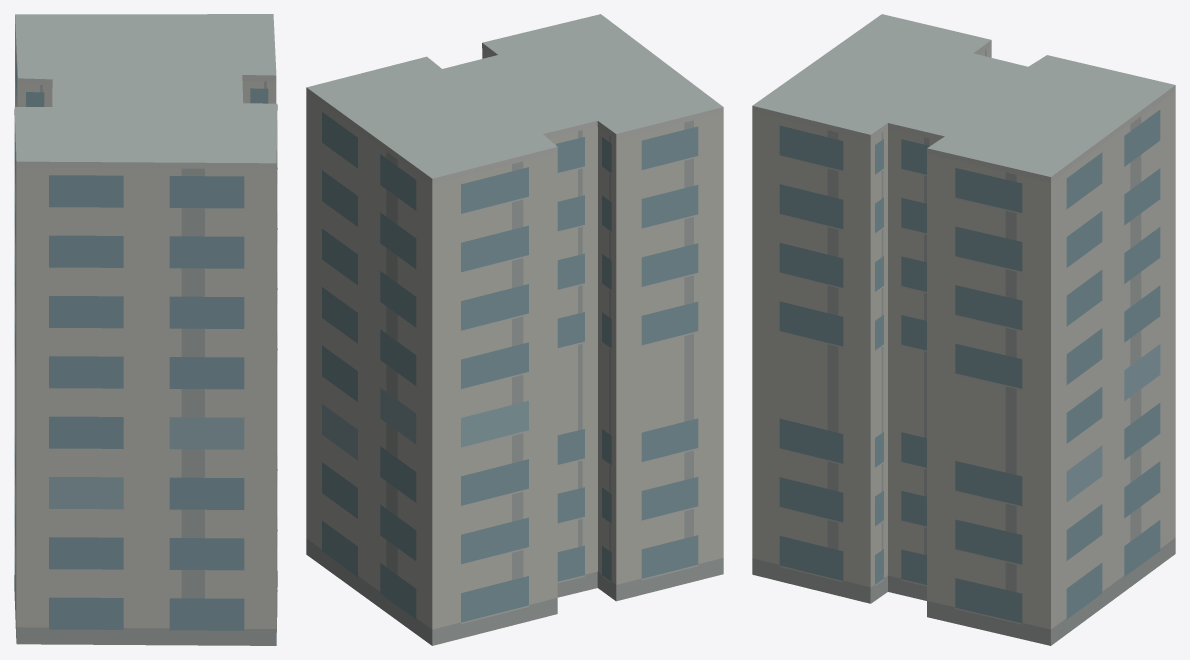
Rendered from survey-upis-32800502.glb.
3 renders of one model, left to right at view 1: azimuth 30°, elevation 25°; view 2: azimuth 150°, elevation 25°; view 3: azimuth 270°, elevation 25°, orthographic. The views are drawn at different scales.
Visible parts, largest first — view 1: survey-upis-32800502.tmp; view 2: survey-upis-32800502.tmp; view 3: survey-upis-32800502.tmp.
Boxes of the visible parts, left/top/right/bottom form: survey-upis-32800502.tmp: left=14, top=14, right=277, bottom=645; survey-upis-32800502.tmp: left=306, top=14, right=723, bottom=645; survey-upis-32800502.tmp: left=752, top=14, right=1175, bottom=645.
Bounding box in the file's own units: 14.78 × 19.8 × 16.21.
